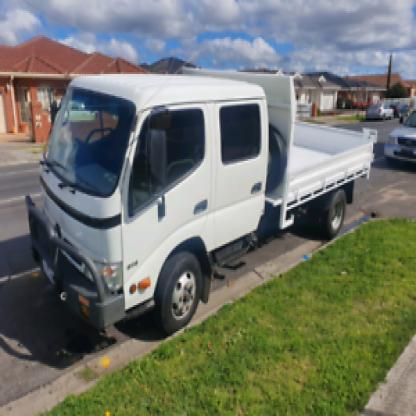dump_truck: (28, 54, 384, 344)
